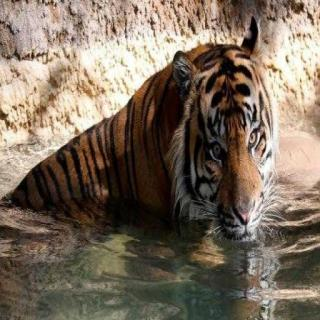Tiger: (28, 11, 293, 246)
